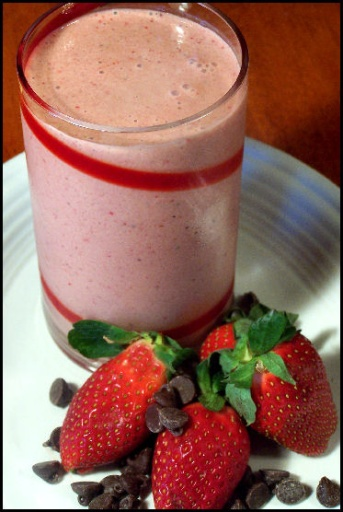background: (10, 5, 181, 407), (14, 26, 182, 406)
